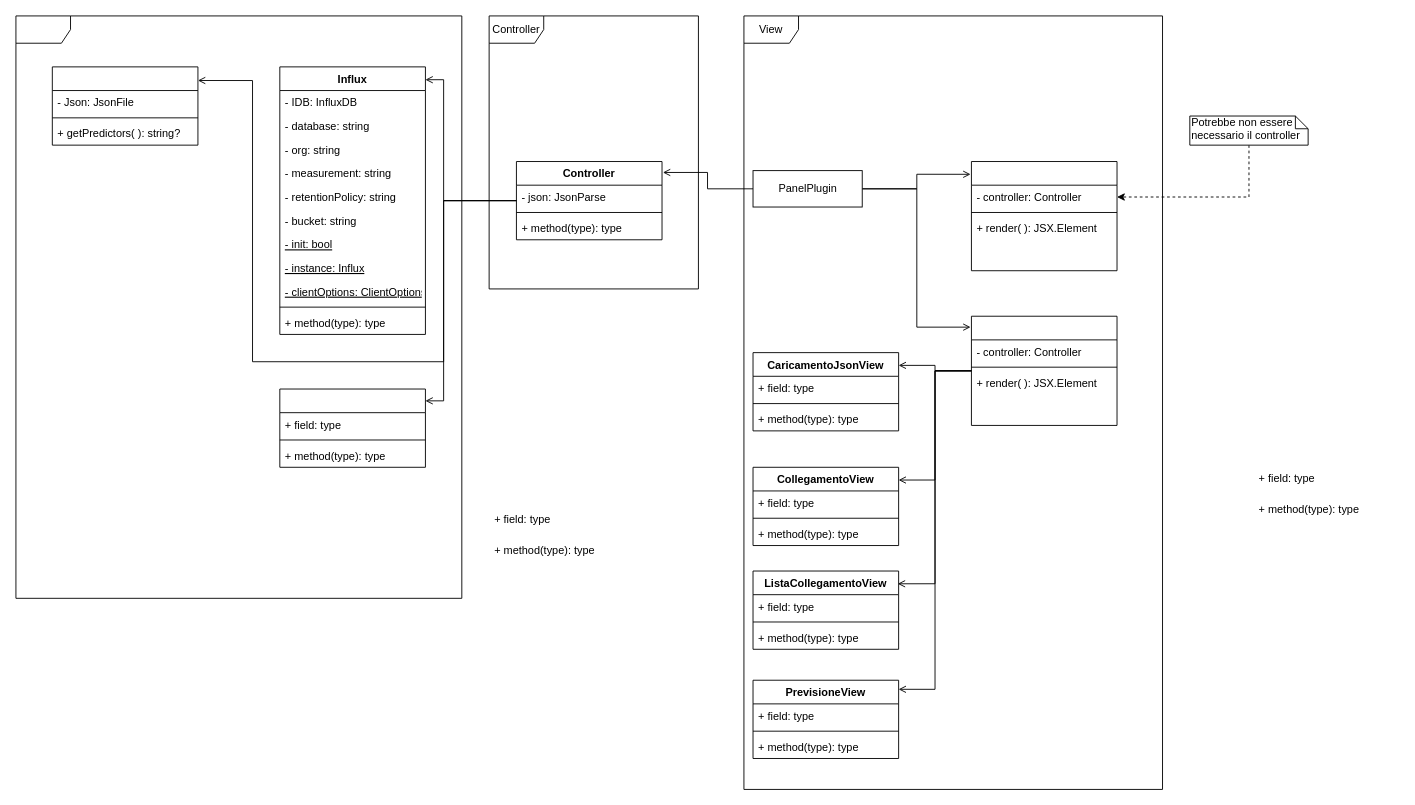
This 1415x805 diagram has some shape labels left out. The shapes that lost their labels are listed below. From the top down, each one's box as (x1, y1, x2, y2) in pixels, then its label:
(51, 66, 198, 145): JsonParse
(971, 161, 1117, 271): MyPanel
(15, 15, 462, 598): Model
(971, 315, 1117, 425): MyPanelEditor
(279, 388, 425, 467): Prediction
